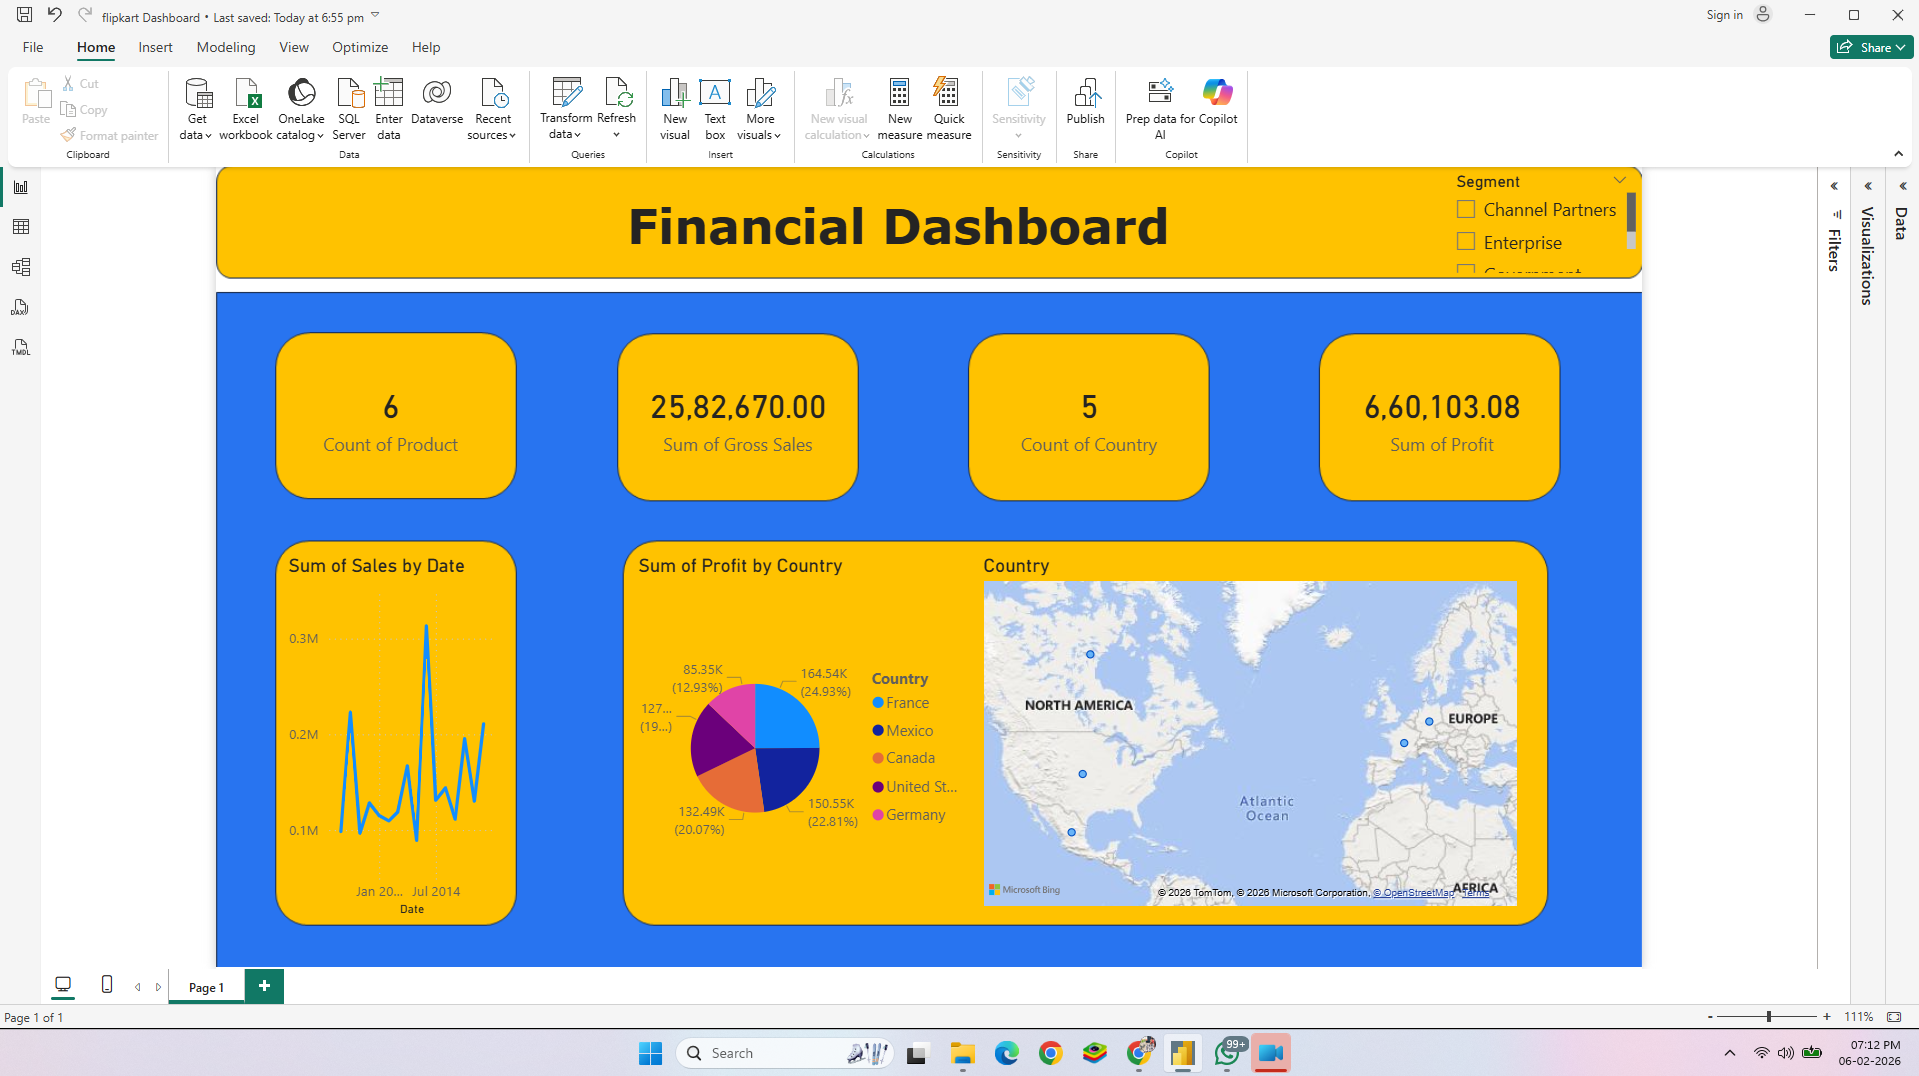

This screenshot's page, from the dashboard's own definition file:
{"tool":"powerbi","page":{"name":"Page 1","canvas":[1280,720],"ordinal":0},"visuals":[{"type":"card","fields":{"Values":["Count(financials.Product)"]},"box":[67.1,162.4,179,123.5],"z":0},{"type":"textbox","box":[363.8,20.4,916.2,60.3],"z":1000},{"type":"card","fields":{"Values":["Sum(financials.Gross Sales)"]},"box":[363.8,162.4,210.1,123.5],"z":2000},{"type":"card","fields":{"Values":["Count(financials.Country)"]},"box":[683.8,162.4,199.4,123.5],"z":3000},{"type":"card","fields":{"Values":["Sum(financials.Profit)"]},"box":[1000.9,162.4,199.4,123.5],"z":4000},{"type":"lineChart","fields":{"Category":["financials.Date"],"Y":["Sum(financials.Sales)"]},"box":[60.3,347.2,207.2,329.7],"z":5000},{"type":"pieChart","fields":{"Category":["financials.Country"],"Y":["Sum(financials.Profit)"]},"box":[374.5,347.2,309.3,329.7],"z":6000},{"type":"map","fields":{"Category":["financials.Country"]},"box":[683.8,347.2,489.2,321],"z":7000},{"type":"slicer","fields":{"Values":["financials.Segment"]},"box":[1100.6,0,178.7,99.7],"z":8000}]}

Visuals, with their boxes on the page's 1280x720 design canvas (x1, y1, x2, y2). These are canvas units, not pixel positions in the 1919x1076 screenshot, which may show the page scaled, cropped or inside an application window:
card - Count(financials.Product): bbox=(67, 162, 246, 286)
textbox: bbox=(364, 20, 1280, 81)
card - Sum(financials.Gross Sales): bbox=(364, 162, 574, 286)
card - Count(financials.Country): bbox=(684, 162, 883, 286)
card - Sum(financials.Profit): bbox=(1001, 162, 1200, 286)
lineChart - financials.Date x Sum(financials.Sales): bbox=(60, 347, 268, 677)
pieChart - financials.Country x Sum(financials.Profit): bbox=(374, 347, 684, 677)
map - financials.Country: bbox=(684, 347, 1173, 668)
slicer - financials.Segment: bbox=(1101, 0, 1279, 100)
